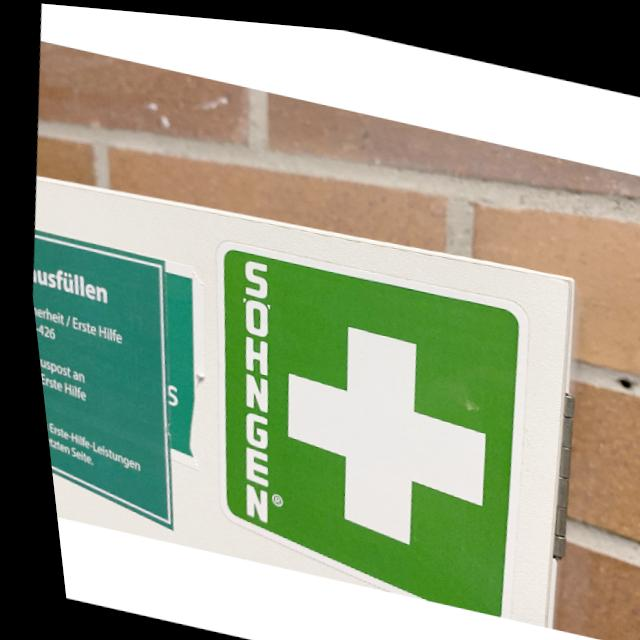first aid kit: (165, 226, 550, 615)
